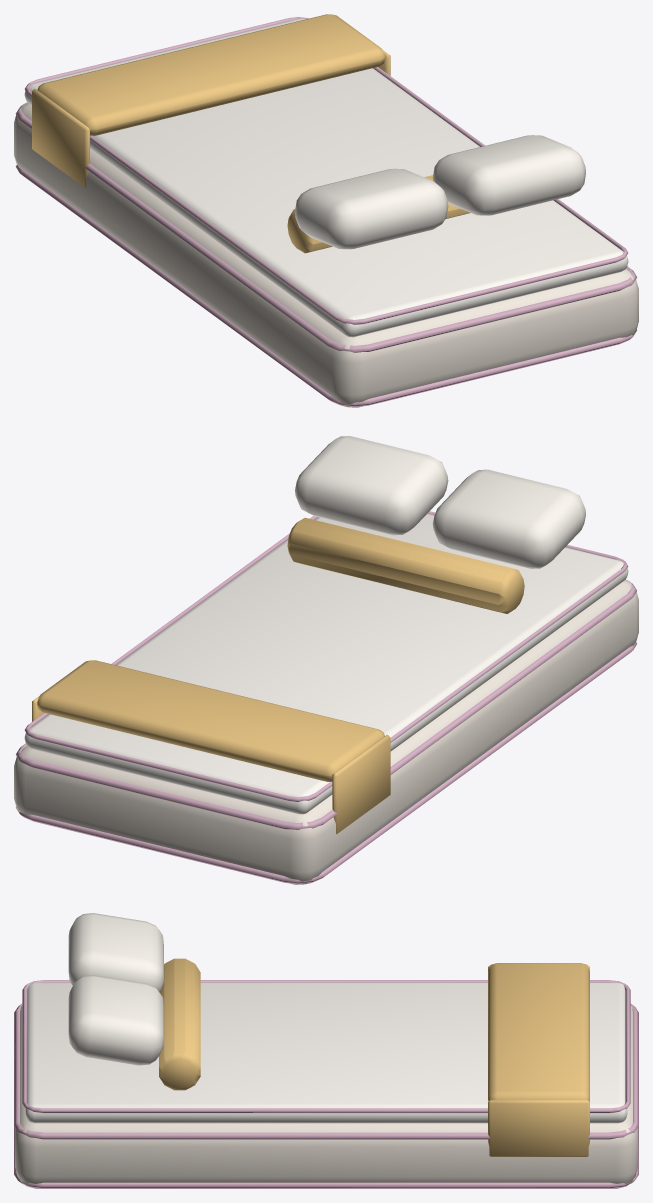
File: bed_vip.glb
3 views of the same model, one above another, from view 1: azimuth 30°, elevation 25°; view 2: azimuth 150°, elevation 25°; view 3: azimuth 270°, elevation 25° (orthographic). The views are drawn at different scales.
Visible parts, largest first — view 1: bed_vip_Topper, bed_vip_Mattress, bed_vip_Throw, bed_vip_Pillow, bed_vip_Piping; view 2: bed_vip_Topper, bed_vip_Mattress, bed_vip_Throw, bed_vip_Pillow, bed_vip_Piping; view 3: bed_vip_Topper, bed_vip_Mattress, bed_vip_Throw, bed_vip_Piping, bed_vip_Pillow.
Boxes of the visible parts, x1=… form: bed_vip_Topper: x1=24, y1=18, x2=628, y2=337; bed_vip_Mattress: x1=14, y1=102, x2=638, y2=407; bed_vip_Throw: x1=32, y1=14, x2=470, y2=253; bed_vip_Pillow: x1=295, y1=135, x2=585, y2=249; bed_vip_Piping: x1=15, y1=17, x2=637, y2=407; bed_vip_Topper: x1=24, y1=513, x2=628, y2=814; bed_vip_Mattress: x1=14, y1=580, x2=638, y2=884; bed_vip_Throw: x1=32, y1=517, x2=524, y2=833; bed_vip_Pillow: x1=295, y1=436, x2=585, y2=568; bed_vip_Piping: x1=16, y1=511, x2=636, y2=884; bed_vip_Topper: x1=25, y1=982, x2=627, y2=1123; bed_vip_Mattress: x1=15, y1=1006, x2=637, y2=1188; bed_vip_Throw: x1=159, y1=958, x2=589, y2=1156; bed_vip_Piping: x1=14, y1=980, x2=638, y2=1188; bed_vip_Pillow: x1=68, y1=913, x2=163, y2=1065.
Bounding box in the file's own units: 1.09 × 0.6041 × 2.09.
